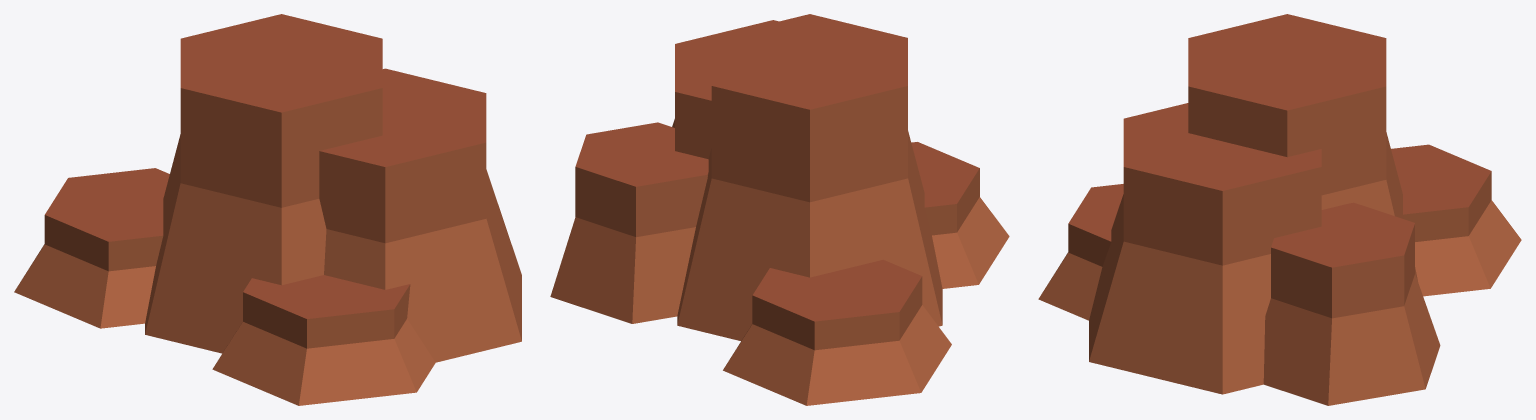
Rendered from Rock Large B.glb.
3 renders of one model, left to right at view 1: azimuth 30°, elevation 25°; view 2: azimuth 150°, elevation 25°; view 3: azimuth 270°, elevation 25°, orthographic. The views are drawn at different scales.
Parts seen in each view (by area): view 1: rock_largeB; view 2: rock_largeB; view 3: rock_largeB.
Part boxes in pixels (<box>): rock_largeB: <box>14,14,521,405</box>; rock_largeB: <box>550,14,1009,405</box>; rock_largeB: <box>1038,14,1521,405</box>.
Bounding box in the file's own units: 0.9278 × 0.5 × 0.9393.
